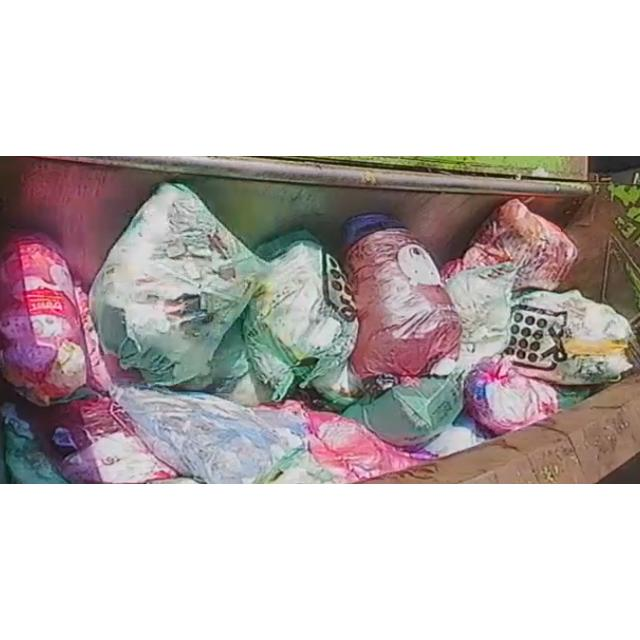general_trashbag: (89, 184, 261, 385), (244, 231, 358, 401), (502, 290, 632, 386)
other_trashbag: (343, 228, 460, 380), (0, 234, 86, 406), (441, 198, 576, 291), (445, 262, 518, 373)
